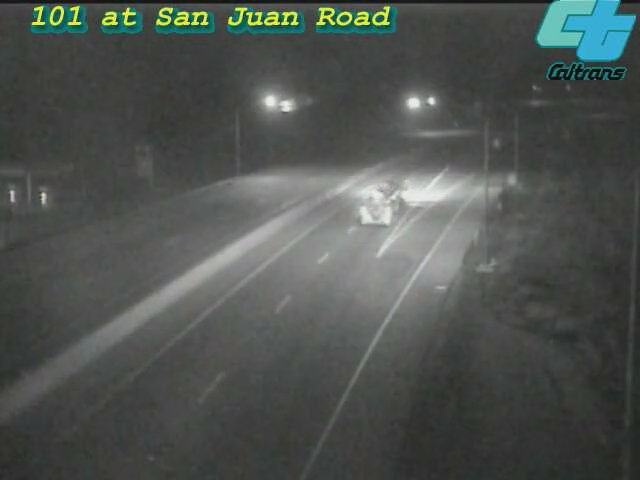vehicle: (348, 154, 428, 234)
